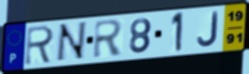1: (169, 11, 186, 54)
8: (128, 17, 153, 55)
J: (196, 10, 220, 49)
N: (53, 20, 88, 64)
R: (92, 18, 125, 61), (23, 24, 56, 67)
